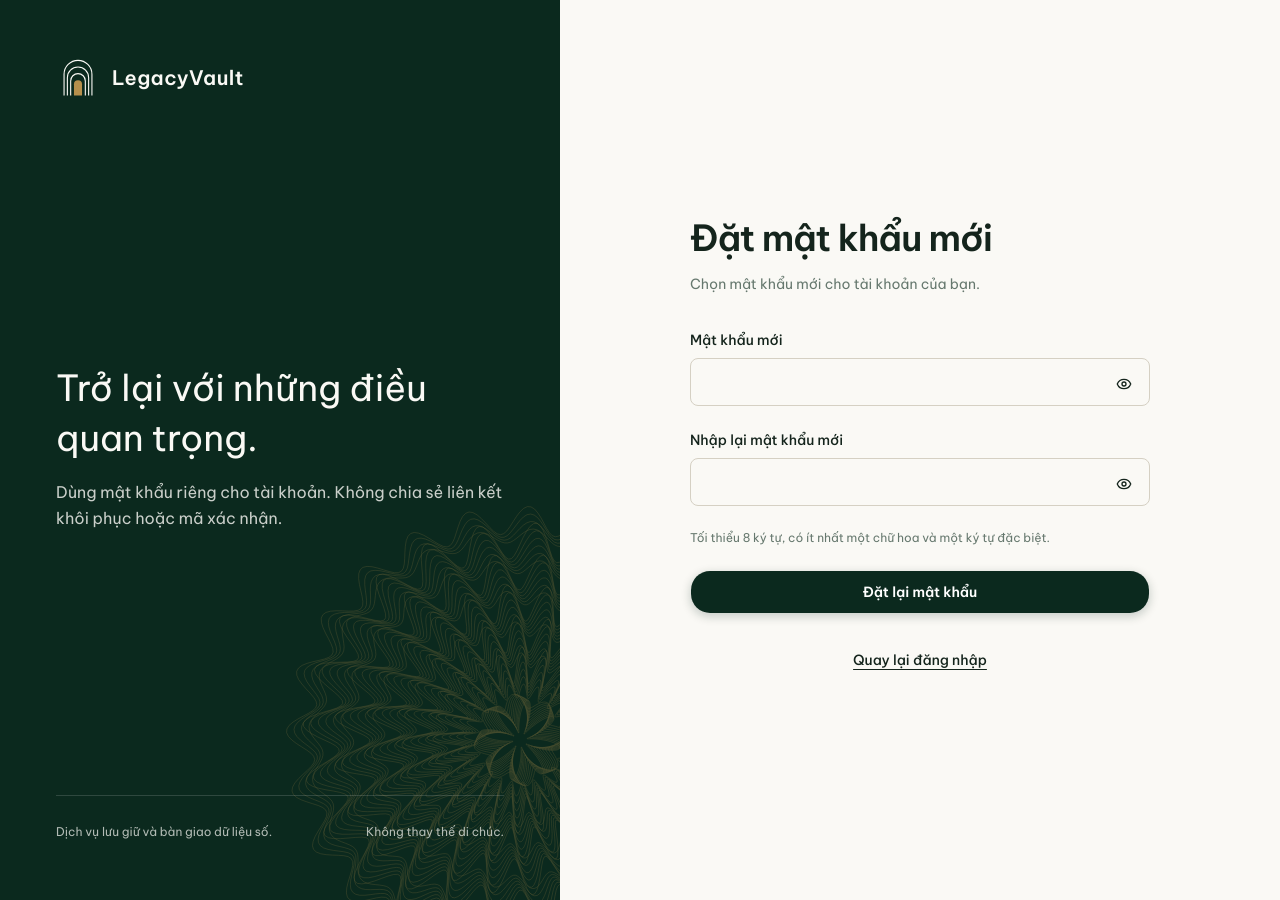
Test: stops retrying an invalid token and offers a new link
Type "Abcdefg!" into the password field labelled "Mật khẩu mới".
click(920, 382); type("Abcdefg!")  # box [690,358,1150,406]
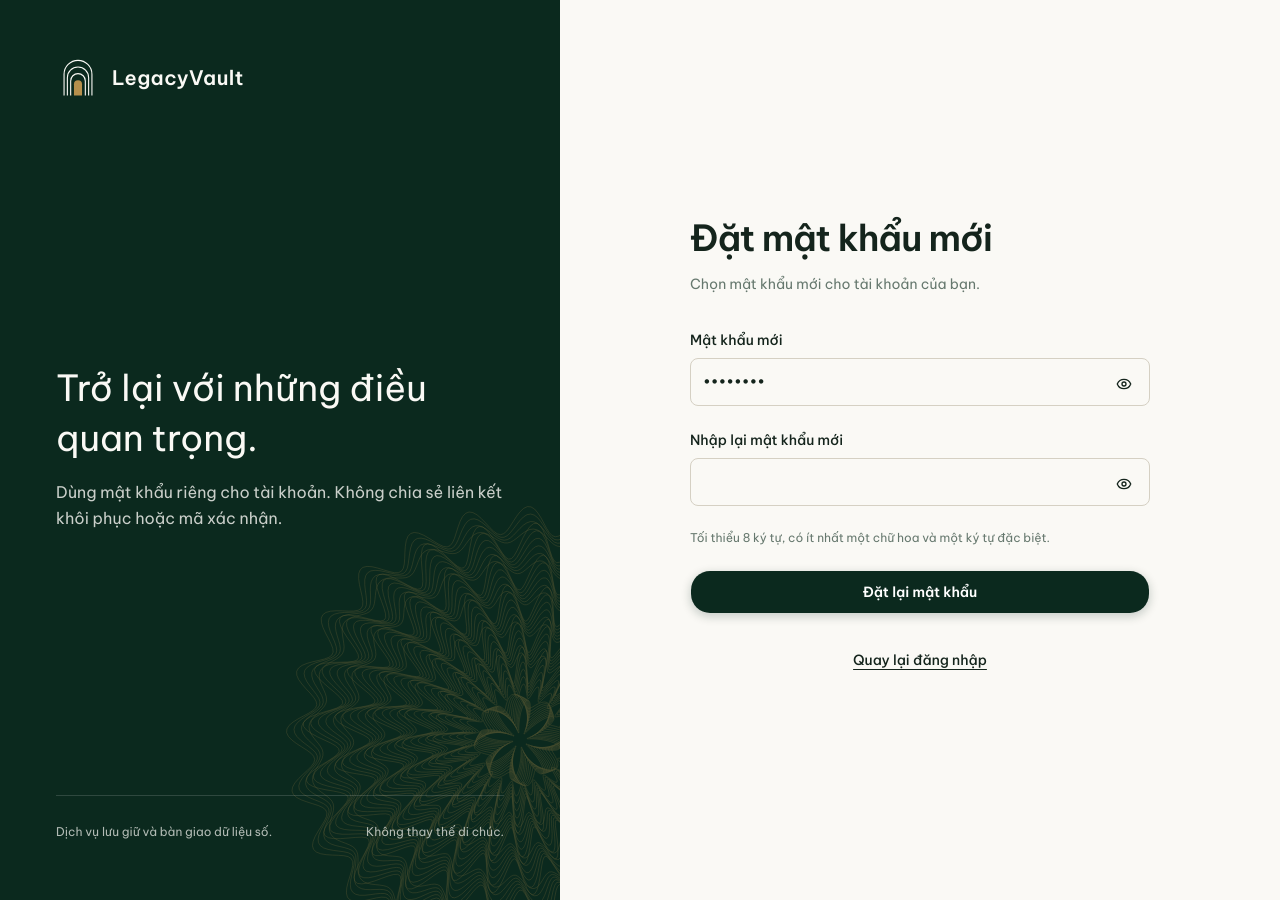
Type "Abcdefg!" into the password field labelled "Nhập lại mật khẩu mới".
click(920, 482); type("Abcdefg!")  # box [690,458,1150,506]
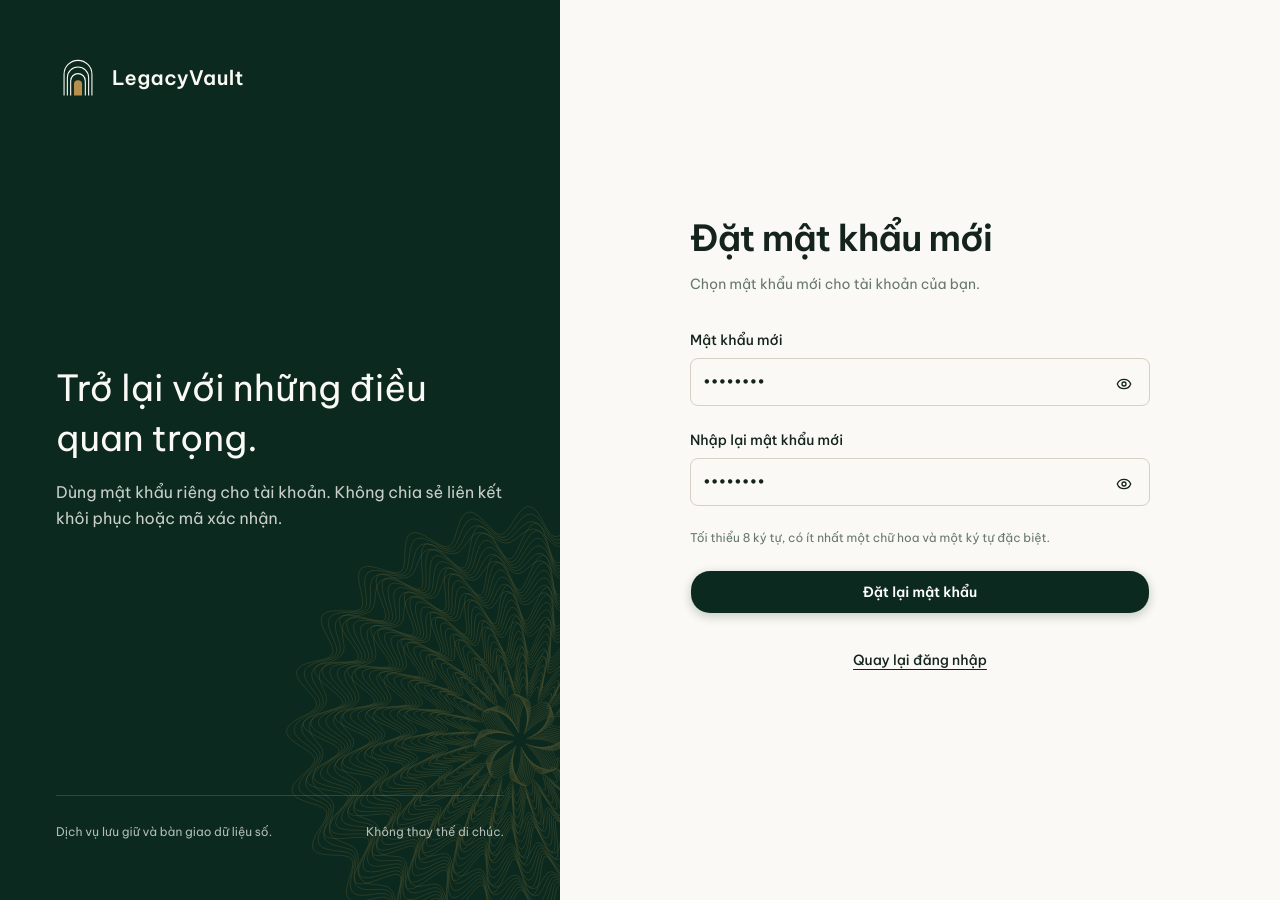
Click the button "Đặt lại mật khẩu".
click(920, 592)  # box [690,570,1150,614]
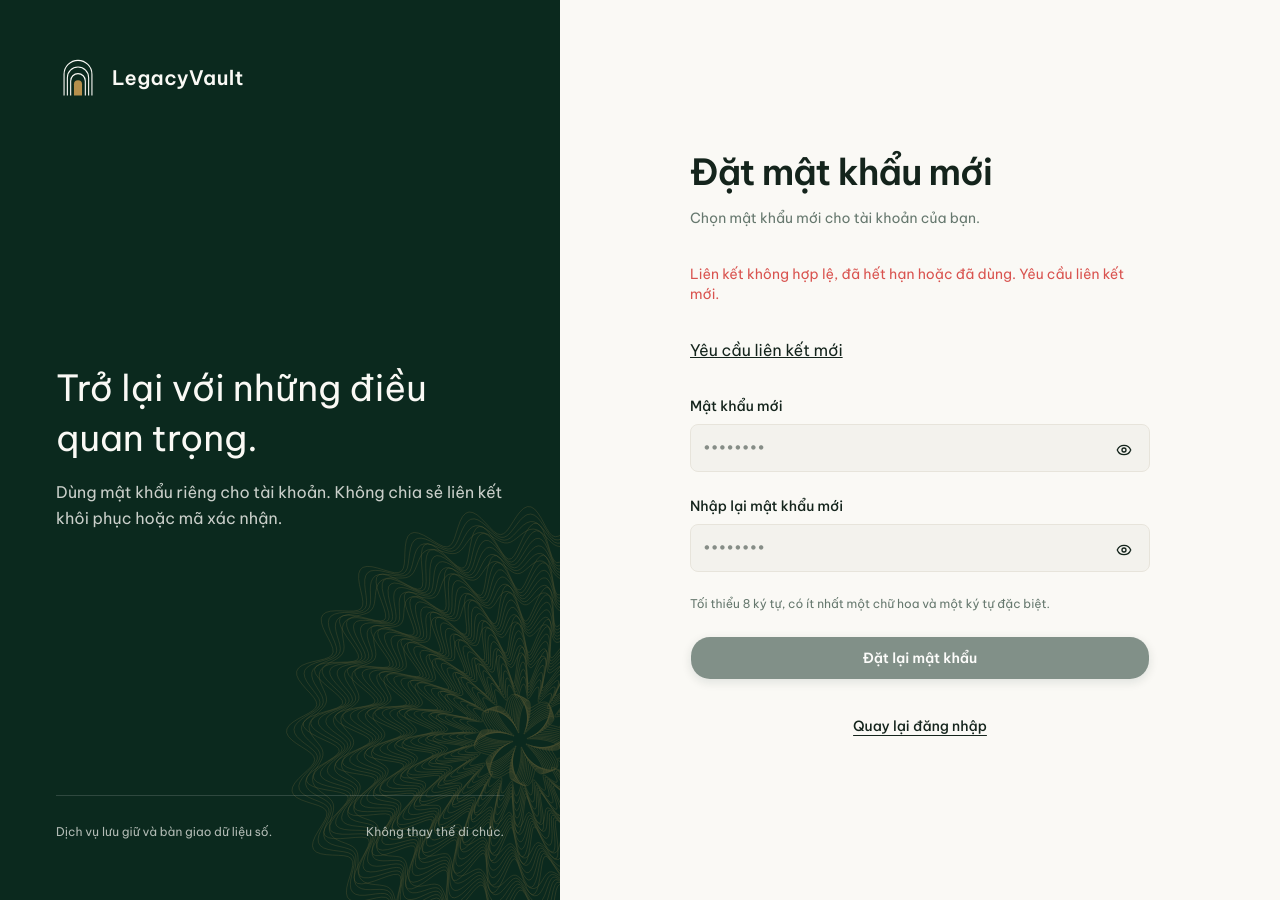
Expected: the message shows "đã hết hạn hoặc đã dùng", [690,265,1124,303]
Expected: the button "Đặt lại mật khẩu" is disabled, [690,636,1150,680]
